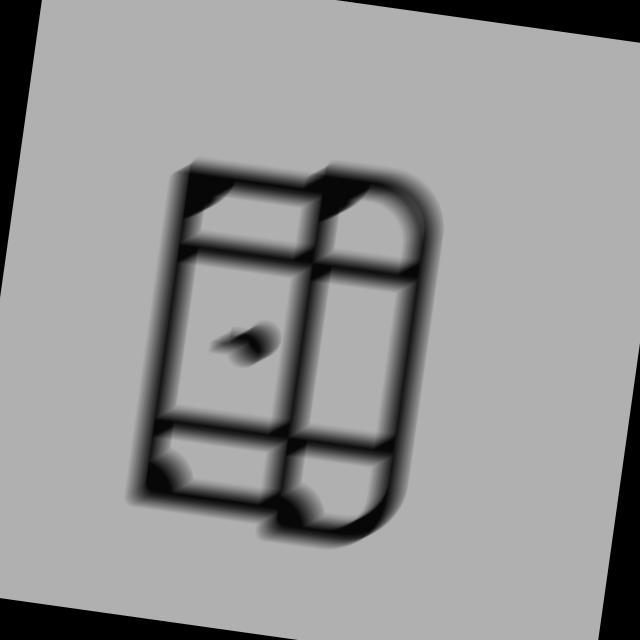treasure_box: (117, 130, 463, 573)
